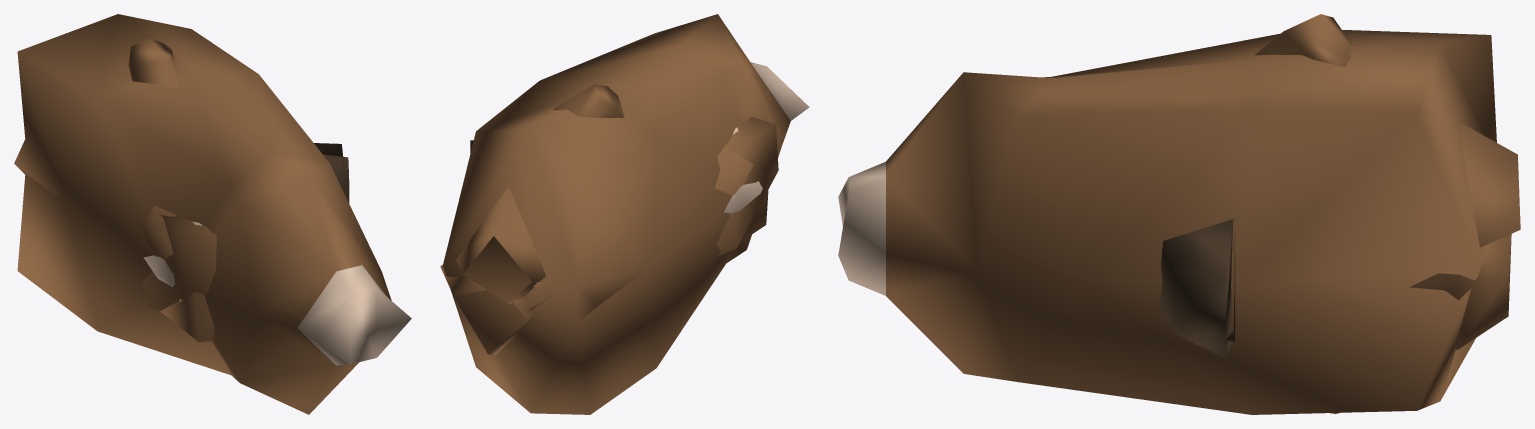
File: characterrig.obj
3 renders of one model, left to right at view 1: azimuth 30°, elevation 25°; view 2: azimuth 150°, elevation 25°; view 3: azimuth 270°, elevation 25°, orthographic. The views are drawn at different scales.
Visible parts, largest first — view 1: gktorso_gktorsomesh, gkthigh.r_gkthigh_rmesh, gkthigh.l_gkthigh_lmesh, gkbicep.l_gkbicep_lrmesh, gkfoot.r_gkfoot_rmesh, gkhead_gkheadmesh; view 2: gktorso_gktorsomesh, gkthigh.l_gkthigh_lmesh, gkthigh.r_gkthigh_rmesh, gkbicep.l_gkbicep_lrmesh, gkhead_gkheadmesh; view 3: gktorso_gktorsomesh, gkfoot.r_gkfoot_rmesh, gkthigh.l_gkthigh_lmesh, gkthigh.r_gkthigh_rmesh, gkbicep.l_gkbicep_lrmesh.
Part boxes in pixels (x1,y1,x2,y2): gktorso_gktorsomesh: (14, 14, 411, 414); gkthigh.r_gkthigh_rmesh: (141, 214, 216, 311); gkthigh.l_gkthigh_lmesh: (140, 205, 213, 342); gkbicep.l_gkbicep_lrmesh: (128, 37, 178, 87); gkfoot.r_gkfoot_rmesh: (323, 154, 349, 203); gkhead_gkheadmesh: (143, 221, 202, 301); gktorso_gktorsomesh: (443, 14, 809, 414); gkthigh.l_gkthigh_lmesh: (456, 144, 768, 303); gkthigh.r_gkthigh_rmesh: (440, 116, 778, 355); gkbicep.l_gkbicep_lrmesh: (553, 84, 624, 117); gkhead_gkheadmesh: (724, 127, 762, 213); gktorso_gktorsomesh: (838, 30, 1496, 414); gkfoot.r_gkfoot_rmesh: (1159, 219, 1233, 358); gkthigh.l_gkthigh_lmesh: (1458, 122, 1520, 247); gkthigh.r_gkthigh_rmesh: (1409, 234, 1511, 349); gkbicep.l_gkbicep_lrmesh: (1255, 14, 1352, 67).
Bounding box in the file's own units: 1.04 × 1.31 × 2.07.
12 materials, 12 textured.
